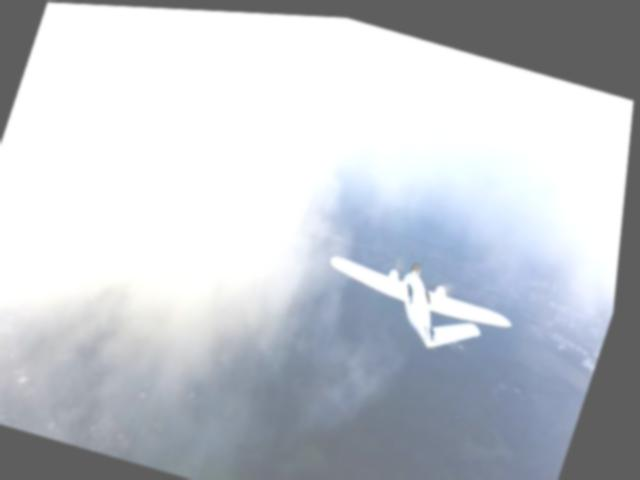uav: (312, 232, 535, 364)
